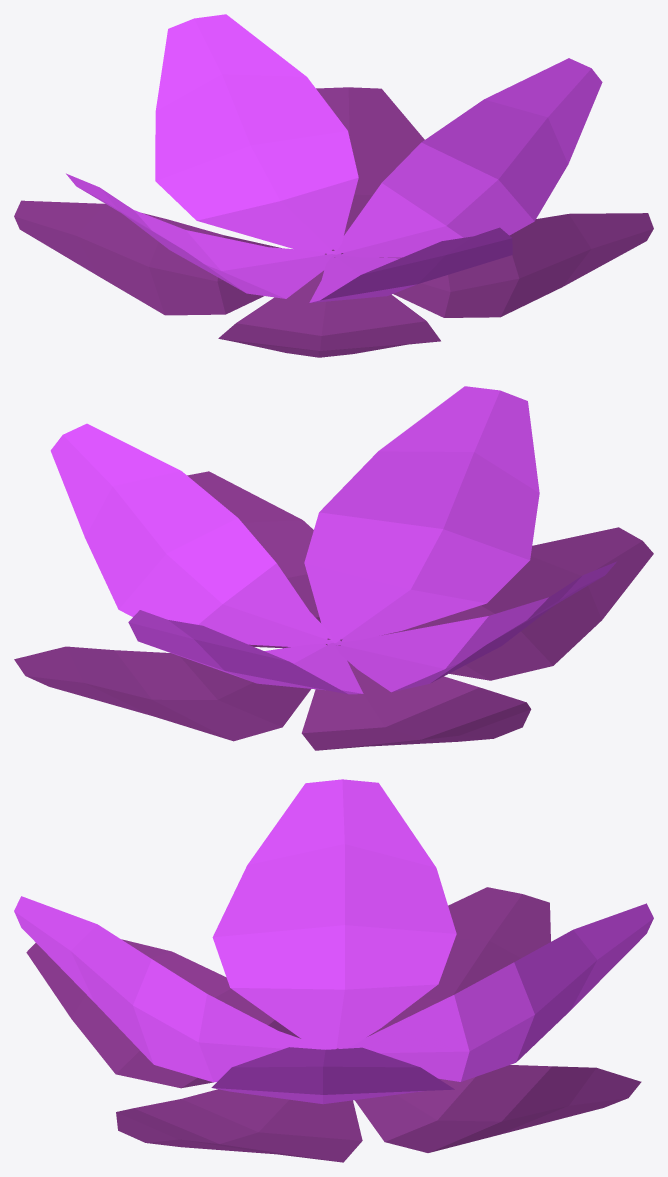
File: waterlily_purpleflower.obj
The picture shows the model from 3 angles, top to bottom: view 1: azimuth 30°, elevation 25°; view 2: azimuth 150°, elevation 25°; view 3: azimuth 270°, elevation 25°; orthographic projection. The views are drawn at different scales.
Parts seen in each view (by area): view 1: Flower_Purple_Plane.001; view 2: Flower_Purple_Plane.001; view 3: Flower_Purple_Plane.001.
Part boxes in pixels (x1=…): Flower_Purple_Plane.001: x1=14, y1=14, x2=653, y2=357; Flower_Purple_Plane.001: x1=14, y1=386, x2=653, y2=750; Flower_Purple_Plane.001: x1=14, y1=779, x2=653, y2=1162.
Size of the model in its own units: 0.1158 by 0.0348 by 0.1158.
